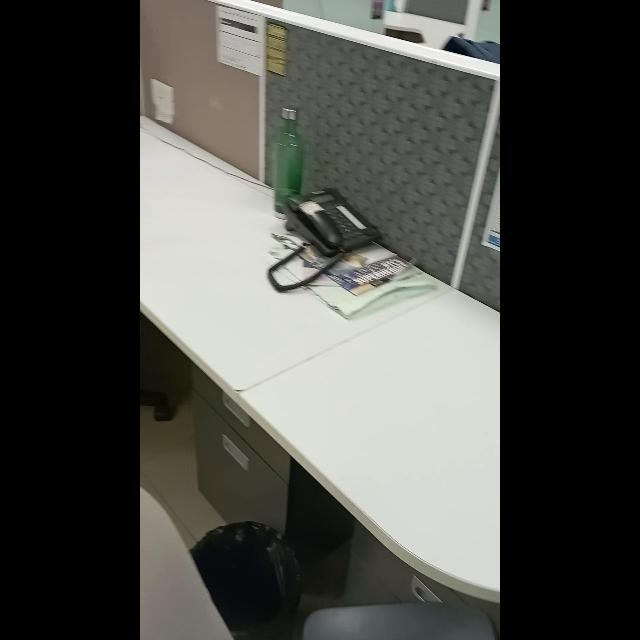Telephone-Set: (280, 178, 388, 264)
